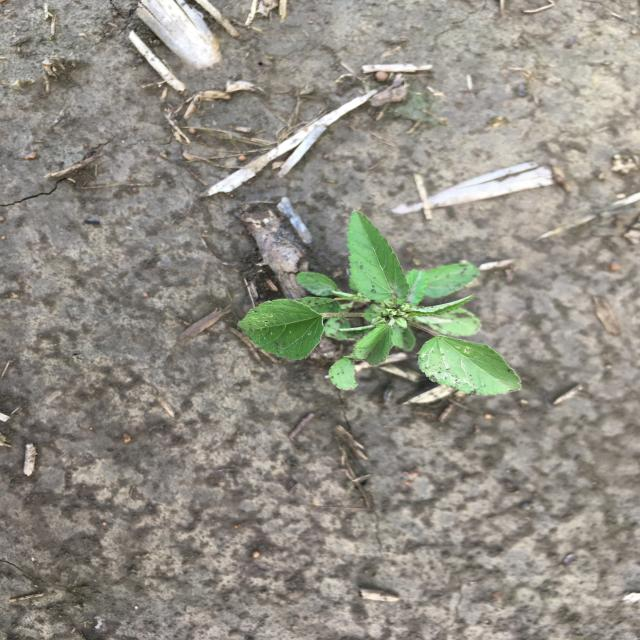PricklySida: (235, 208, 527, 399)
